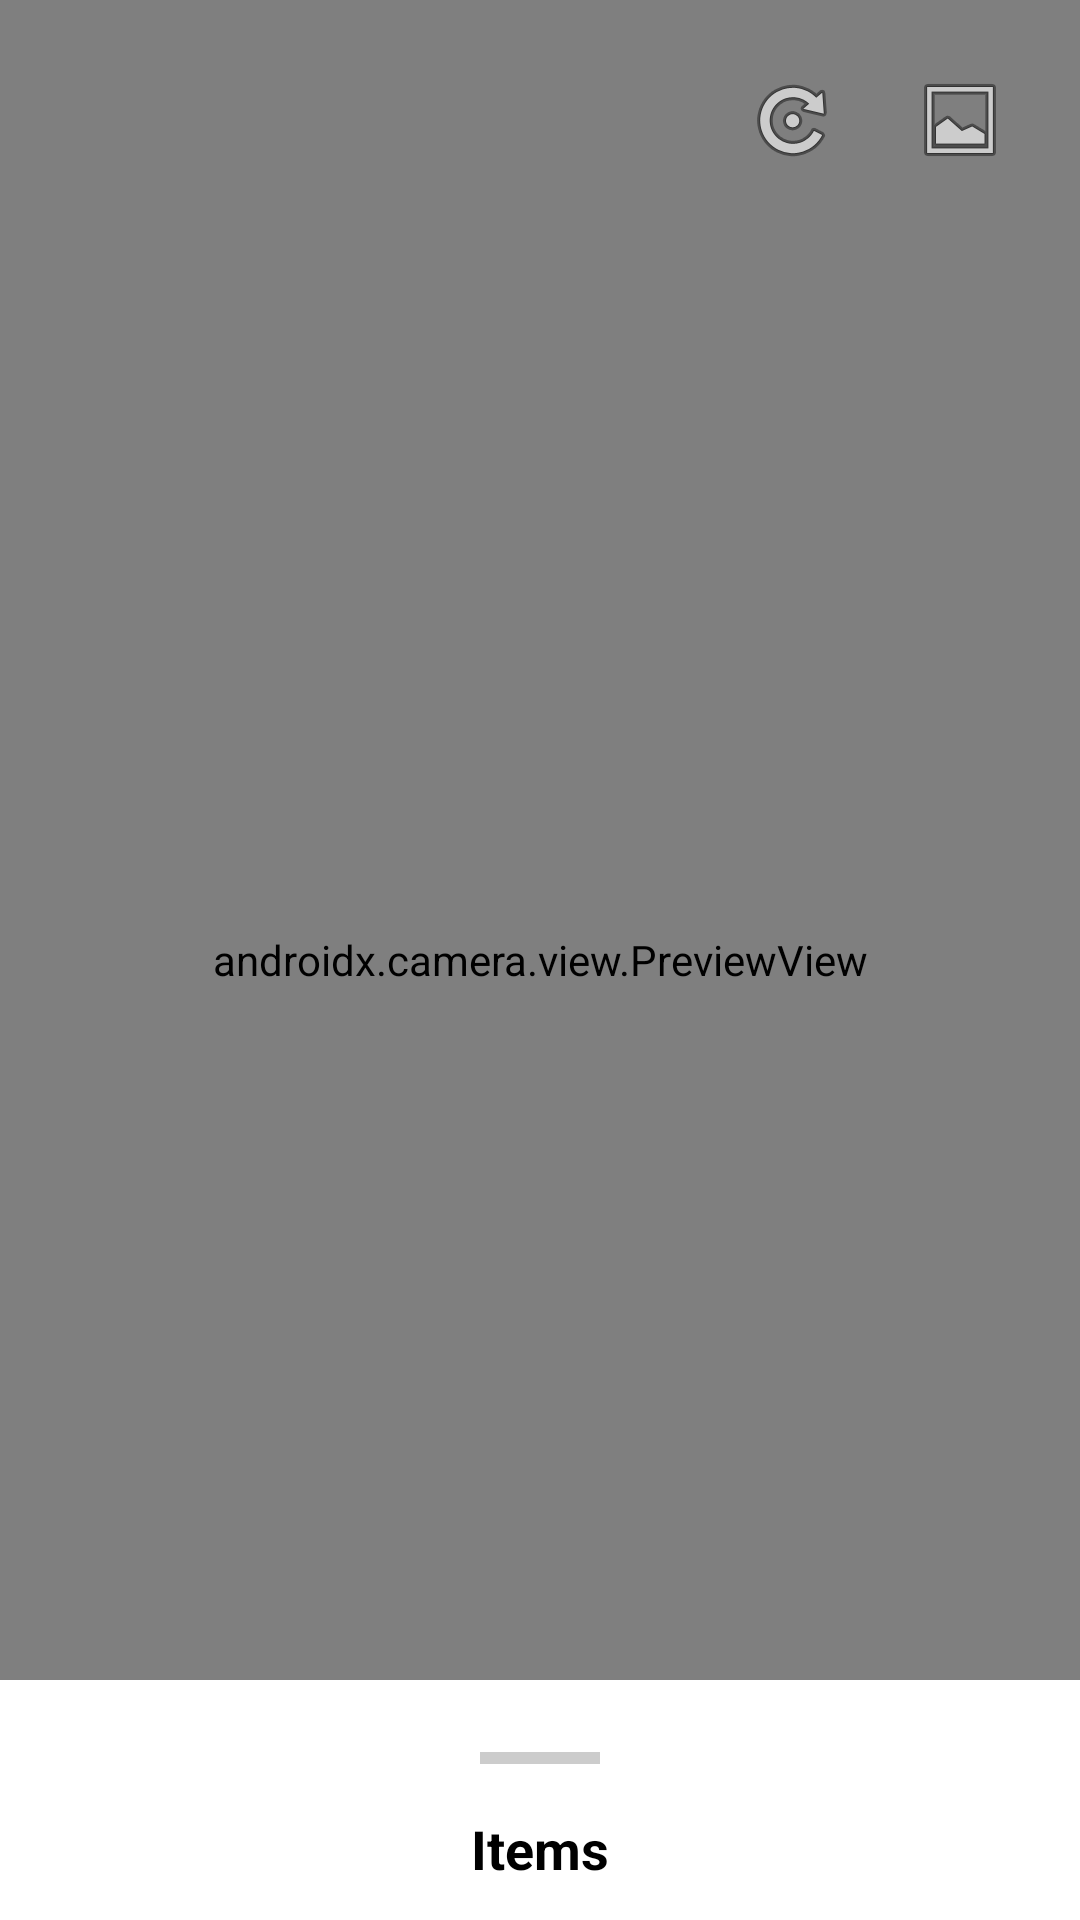

Named icons in this screenshot (1080 x 1920) and their bounding boxes, bbox=[x1, y1, x2, y2]:
Switch Camera: bbox=[757, 85, 827, 156]
